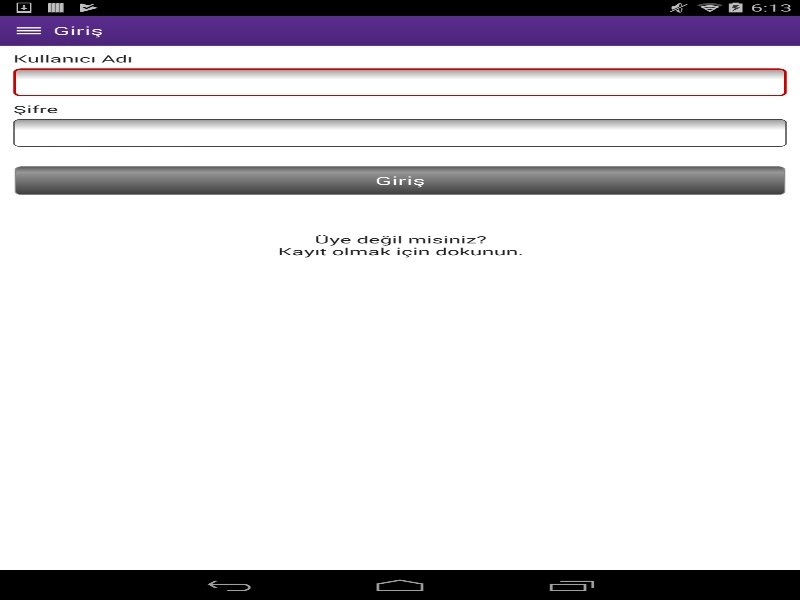Button: (13, 165, 786, 195)
Input: (13, 68, 786, 96), (13, 119, 786, 146)
